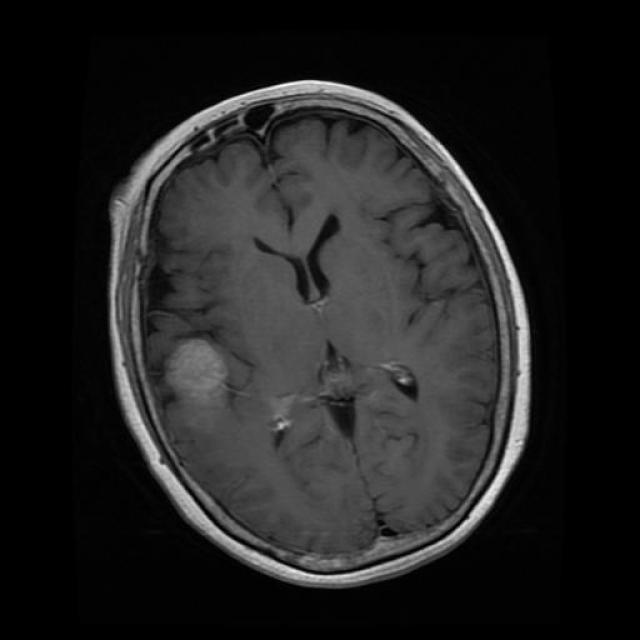meningioma: (168, 341, 224, 392)
